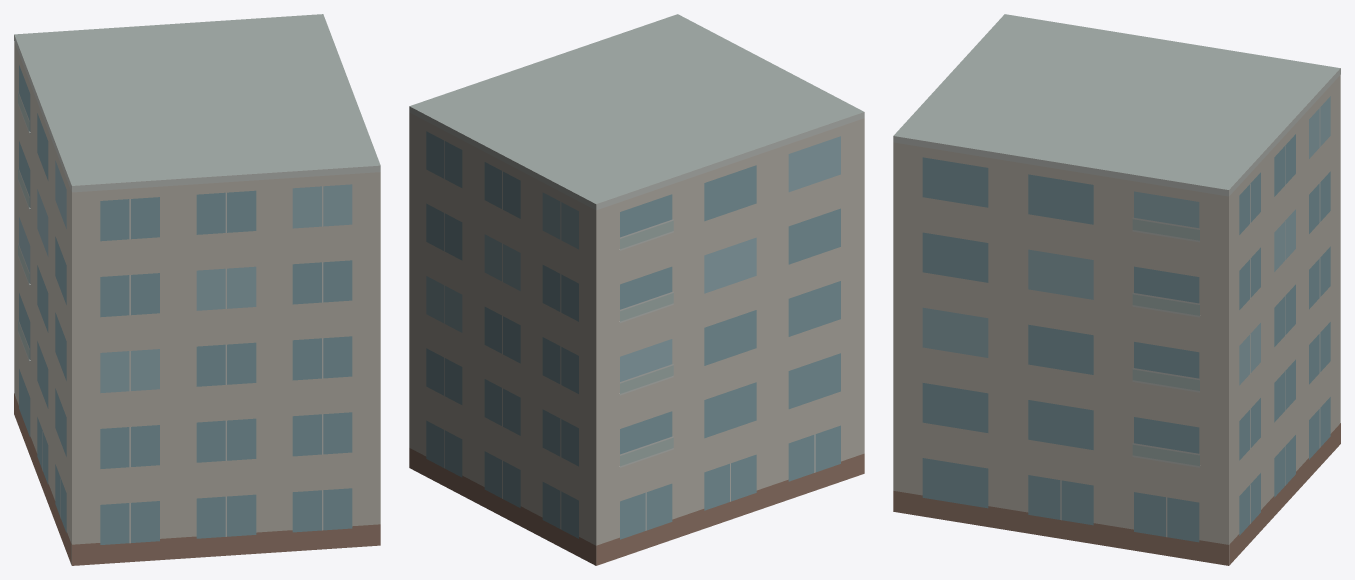
File: survey-upis-32870184.glb
3 views of the same model, side by side, from view 1: azimuth 30°, elevation 25°; view 2: azimuth 150°, elevation 25°; view 3: azimuth 270°, elevation 25° (orthographic). The views are drawn at different scales.
Parts seen in each view (by area): view 1: survey-upis-32870184.tmp; view 2: survey-upis-32870184.tmp; view 3: survey-upis-32870184.tmp.
Part boxes in pixels (<box>): survey-upis-32870184.tmp: <box>14,14,380,565</box>; survey-upis-32870184.tmp: <box>409,14,864,565</box>; survey-upis-32870184.tmp: <box>893,14,1340,565</box>.
Size of the model in its own units: 14.38 by 14.3 by 15.44.
